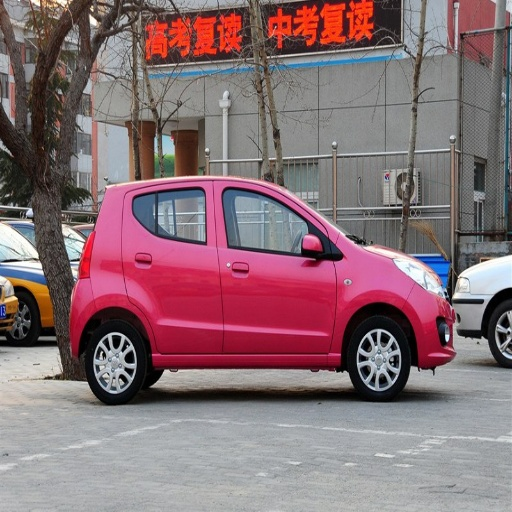back_right_door: (127, 181, 229, 353)
front_right_door: (219, 185, 336, 351)
